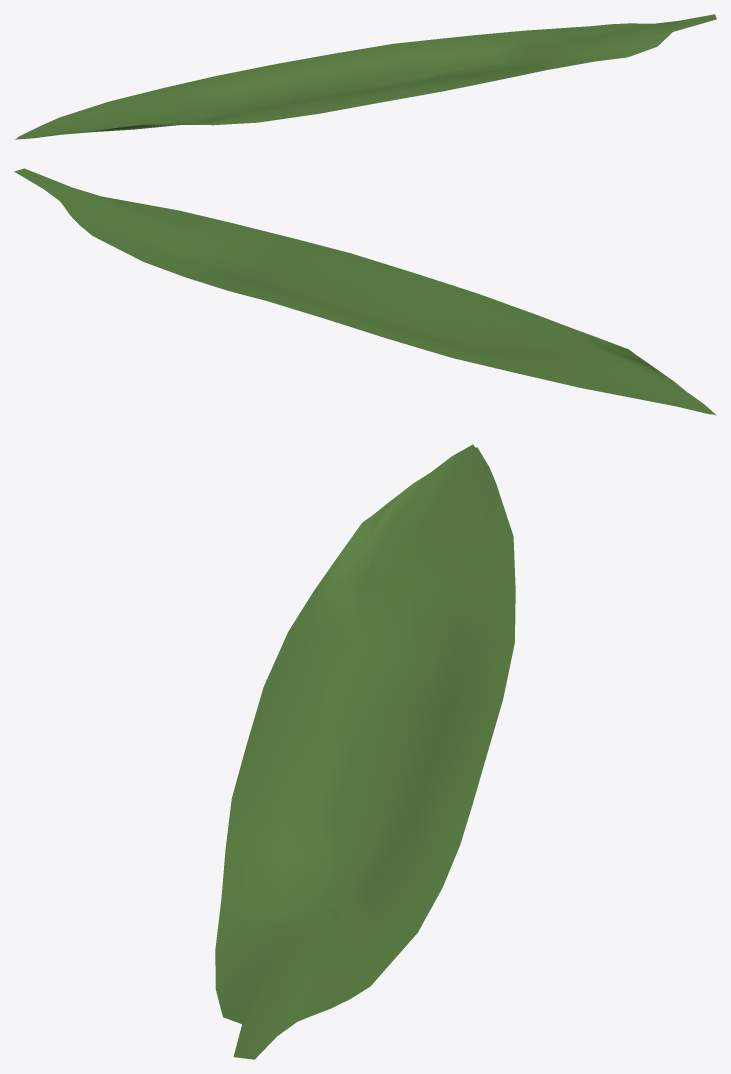
File: leaf.obj
3 renders of one model, top to bottom at view 1: azimuth 30°, elevation 25°; view 2: azimuth 150°, elevation 25°; view 3: azimuth 270°, elevation 25°, orthographic. The views are drawn at different scales.
Visible parts, largest first — view 1: pPlane2; view 2: pPlane2; view 3: pPlane2.
Part boxes in pixels (x1,y1,x2,y2): pPlane2: [15, 14, 716, 139]; pPlane2: [14, 168, 716, 415]; pPlane2: [215, 444, 515, 1059].
Bounding box in the file's own units: 2.19 × 0.0583 × 0.4409.
